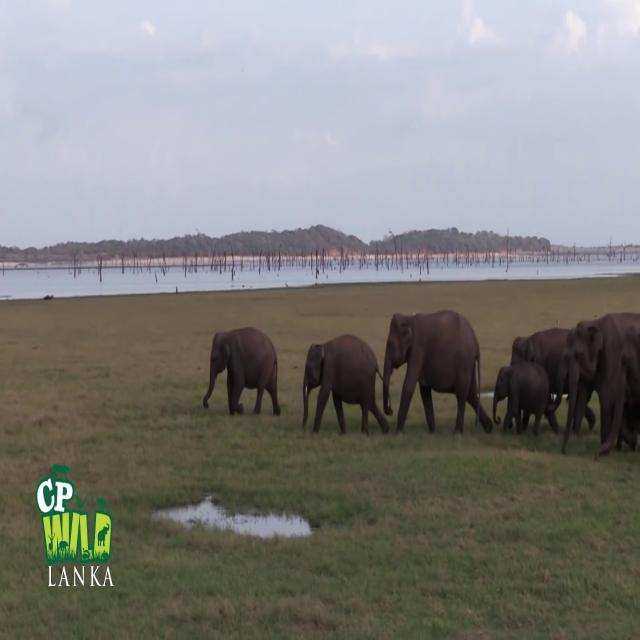Elephant: (382, 309, 493, 435), (552, 310, 640, 460), (510, 326, 596, 434), (302, 333, 389, 436), (202, 326, 281, 416), (492, 360, 560, 436)
